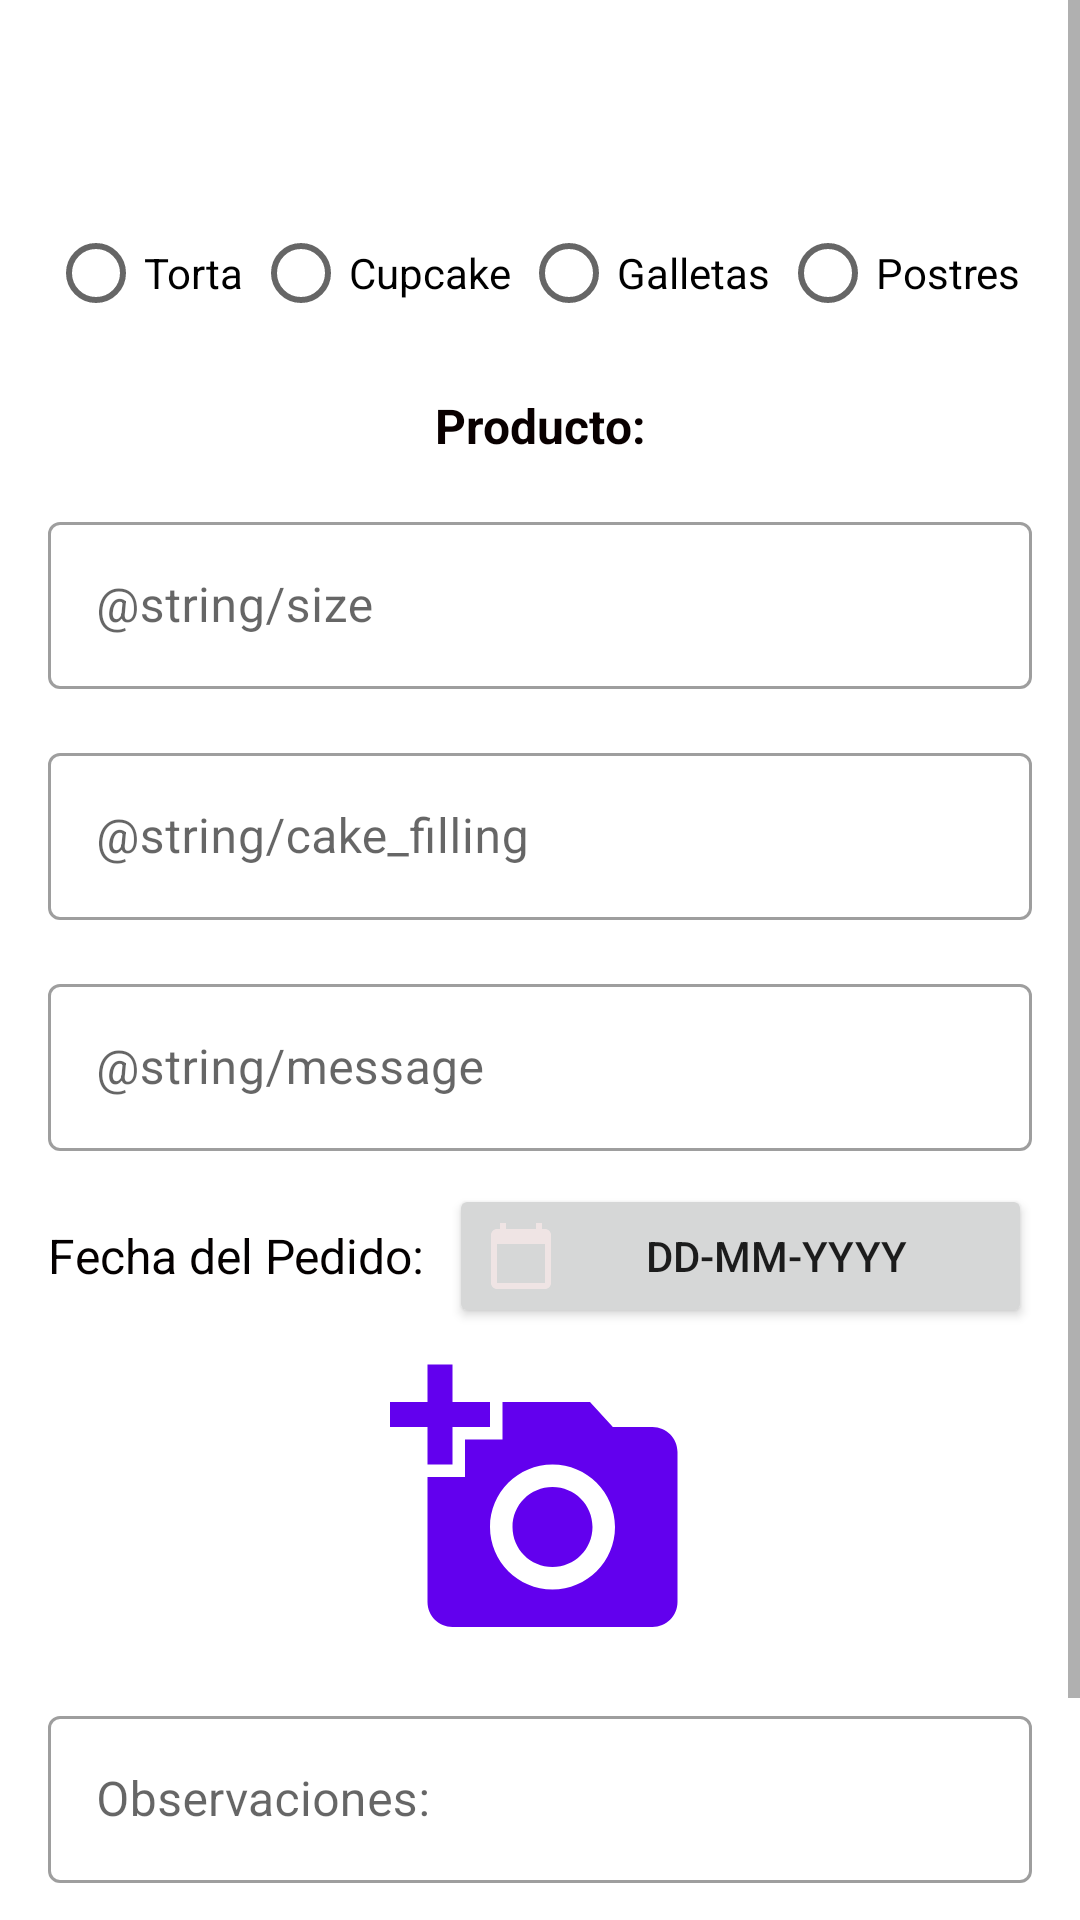

Icon click points for this 1080px x 1920px phone screenshot, format (x,y):
camera: (534,1495)
